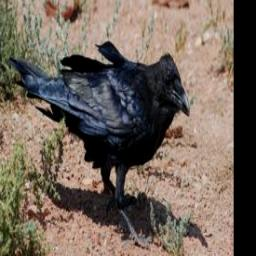Crow: (6, 39, 191, 252)
